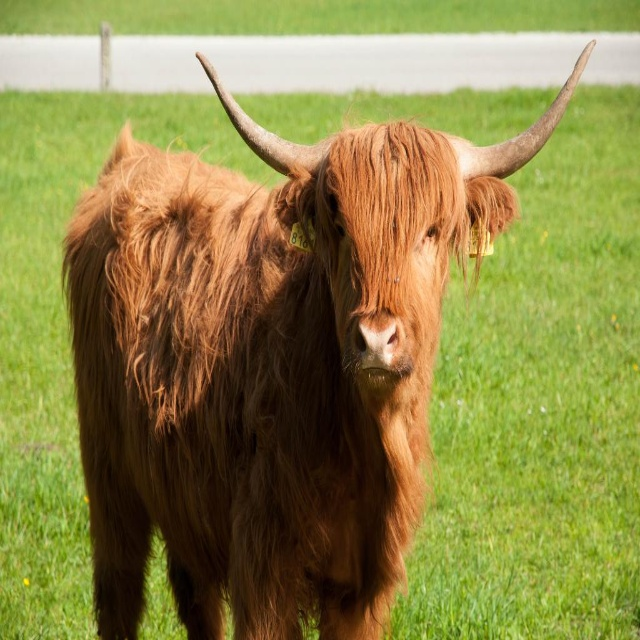Cattle: (58, 39, 596, 640)
